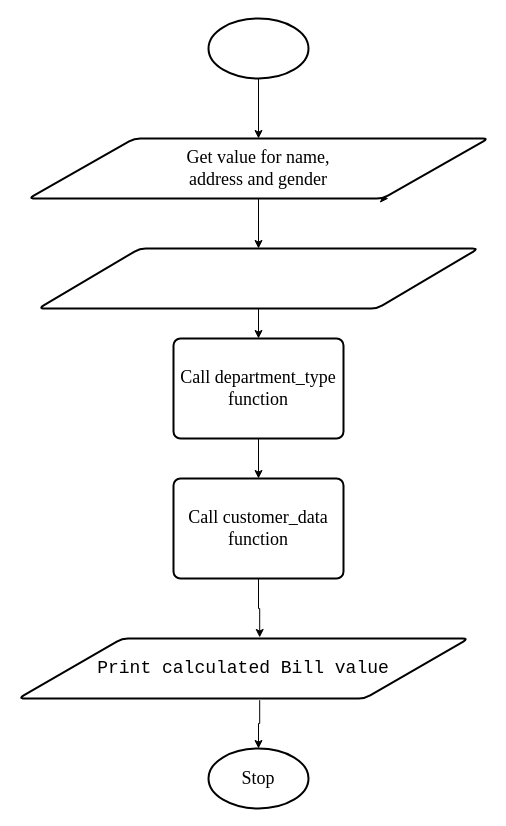
Image size: 506x826. Some labels were removed from this diagram. Here are the shapes that lost their labels. From the top down, the box of each, then its label:
(207, 17, 309, 79): Start
(37, 247, 479, 309): Get value for department no
